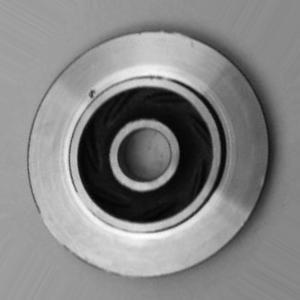defect: (78, 75, 107, 110)
